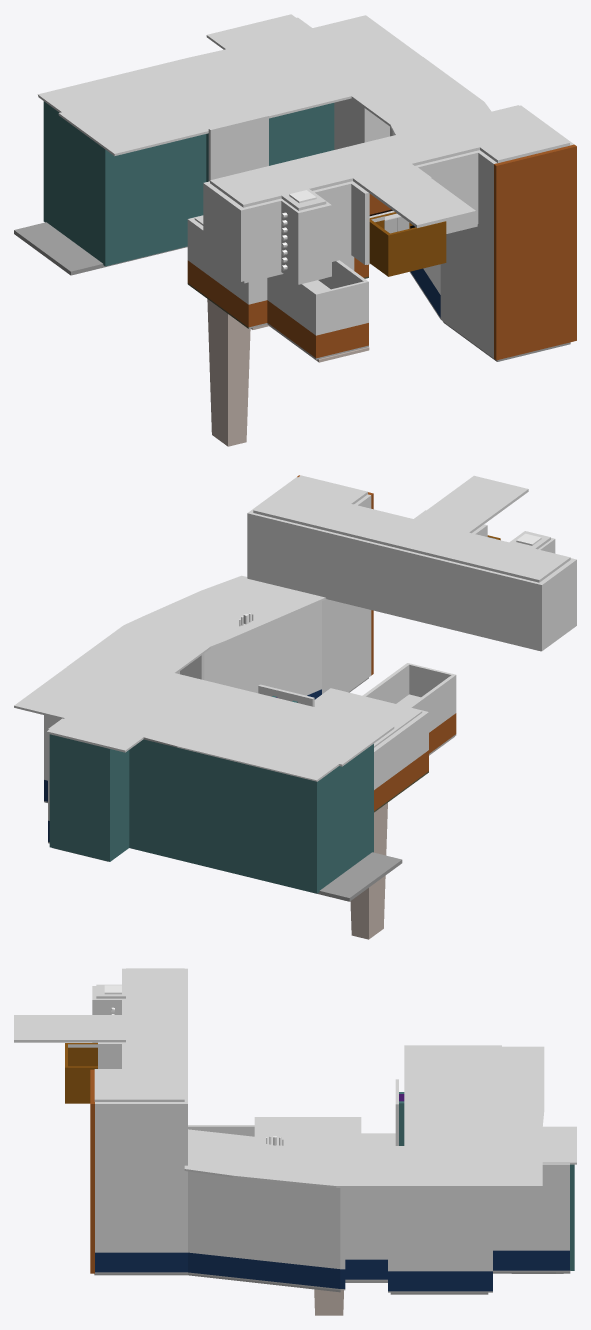
The model's file is TutorialMapUpdated.fbx.
The picture shows the model from 3 angles, top to bottom: view 1: azimuth 30°, elevation 25°; view 2: azimuth 150°, elevation 25°; view 3: azimuth 270°, elevation 25°; orthographic projection. The views are drawn at different scales.
Parts seen in each view (by area): view 1: EntireMap, BasicMovementCeiling, Wall, 2ndFloorCeiling, BasicMovementFloor, Cube.022, StairFloor; view 2: EntireMap, BasicMovementCeiling, Wall, 2ndFloorCeiling, BasicMovementFloor, StairFloor; view 3: EntireMap, BasicMovementCeiling, 2ndFloorCeiling, Cube.022, StairFloor, Wall, BasicMovementFloor.
Part boxes in pixels (<box>): EntireMap: <box>187,17,576,360</box>; BasicMovementCeiling: <box>37,14,491,225</box>; Wall: <box>43,101,334,266</box>; 2ndFloorCeiling: <box>210,105,569,227</box>; BasicMovementFloor: <box>207,299,369,446</box>; Cube.022: <box>369,212,446,275</box>; StairFloor: <box>14,222,570,361</box>; EntireMap: <box>44,475,576,843</box>; BasicMovementCeiling: <box>14,575,422,781</box>; Wall: <box>49,695,373,893</box>; 2ndFloorCeiling: <box>253,475,570,582</box>; BasicMovementFloor: <box>350,736,454,939</box>; StairFloor: <box>54,677,402,901</box>; EntireMap: <box>90,968,569,1292</box>; BasicMovementCeiling: <box>184,1045,576,1187</box>; 2ndFloorCeiling: <box>14,968,184,1101</box>; Cube.022: <box>65,1043,97,1103</box>; StairFloor: <box>94,1270,570,1294</box>; Wall: <box>399,1092,574,1270</box>; BasicMovementFloor: <box>314,1289,343,1315</box>.
Bounding box in the file's own units: 7832 × 7062 × 11953.
